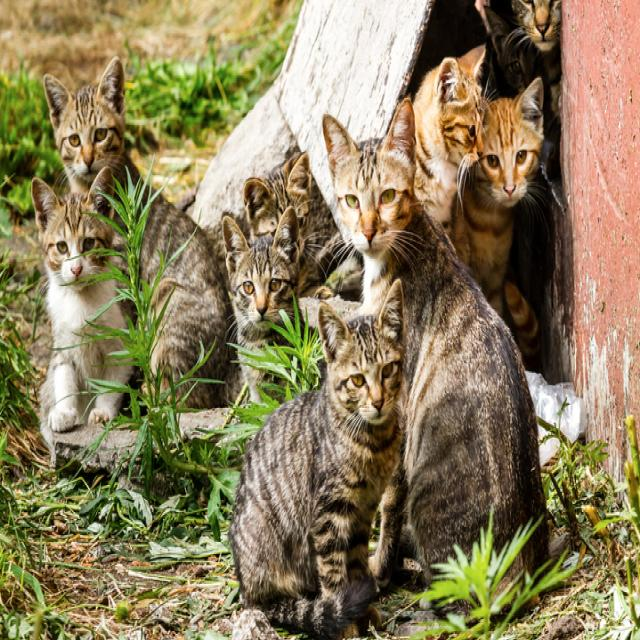cat: (322, 99, 549, 581), (229, 281, 404, 639), (31, 167, 131, 431), (462, 78, 544, 315), (140, 194, 230, 381), (476, 0, 561, 184), (242, 152, 342, 294), (412, 46, 485, 230), (44, 57, 139, 192), (222, 207, 304, 348), (189, 384, 225, 407), (242, 365, 262, 402)
